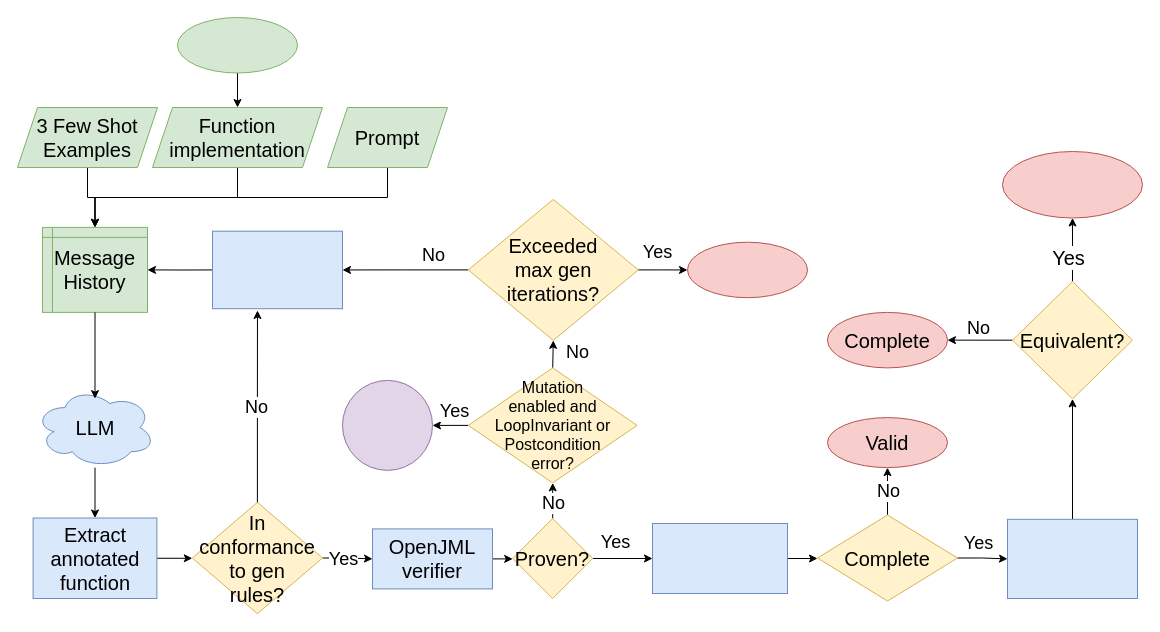
Image size: 1160x632. Some labels were removed from this diagram. Here are the shapes that lost their labels. From the top down, the box of each, then its label:
(176, 16, 298, 73): Start
(1002, 150, 1142, 218): Complete GT
(212, 230, 342, 309): Simple error repair instructions
(686, 241, 808, 298): Failure
(342, 379, 432, 470): Mutation Phase
(652, 522, 788, 594): Completeness Check
(1006, 518, 1138, 598): Ground Truth logical equivalence
